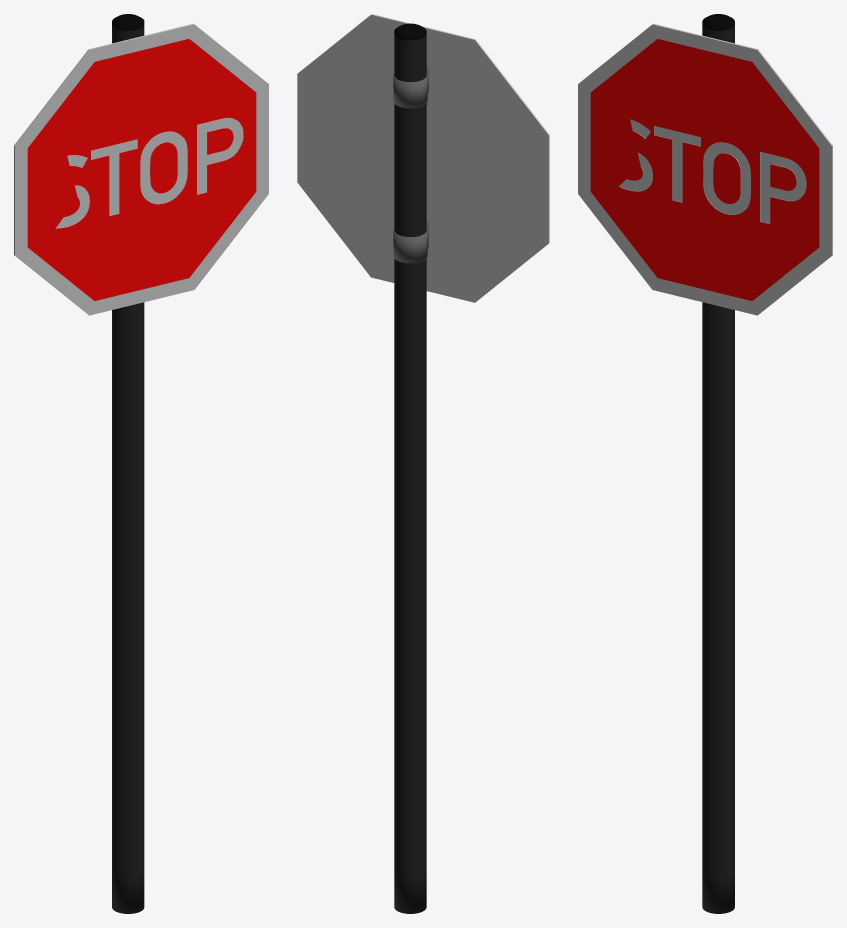
Rendered from Stoppschild.obj.
3 renders of one model, left to right at view 1: azimuth 30°, elevation 25°; view 2: azimuth 150°, elevation 25°; view 3: azimuth 330°, elevation 25°, orthographic.
Parts seen in each view (by area): view 1: Cylinder.001_Cylinder.002; view 2: Cylinder.001_Cylinder.002; view 3: Cylinder.001_Cylinder.002.
Boxes of the visible parts, <box> form: Cylinder.001_Cylinder.002: <box>14,14,268,913</box>; Cylinder.001_Cylinder.002: <box>297,14,549,913</box>; Cylinder.001_Cylinder.002: <box>578,14,832,913</box>.
Bounding box in the file's own units: 0.9 × 3.01 × 0.1374.
